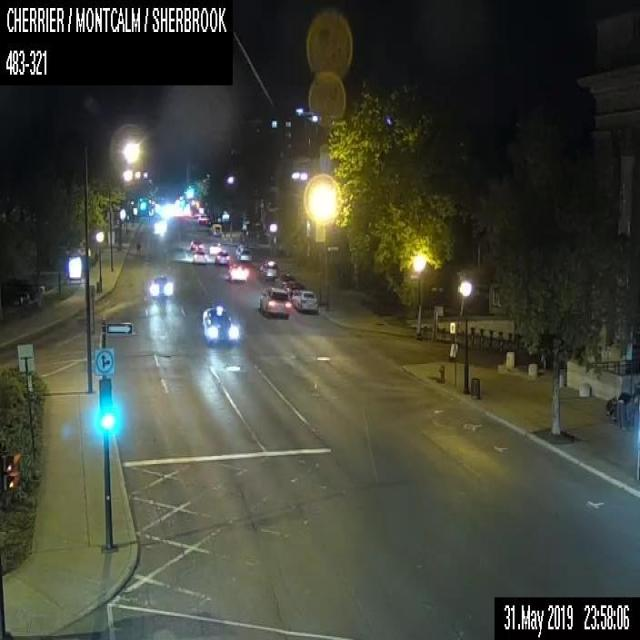pedestrian: (616, 392, 632, 429), (136, 240, 140, 256)
vehicle: (201, 303, 239, 344), (258, 287, 291, 317), (8, 276, 44, 295), (292, 288, 318, 314), (149, 275, 174, 300), (0, 286, 28, 306), (226, 260, 249, 283), (259, 259, 278, 279), (233, 243, 251, 260), (189, 232, 202, 250), (192, 248, 206, 264), (215, 250, 228, 264), (208, 222, 222, 235), (208, 240, 220, 254)
